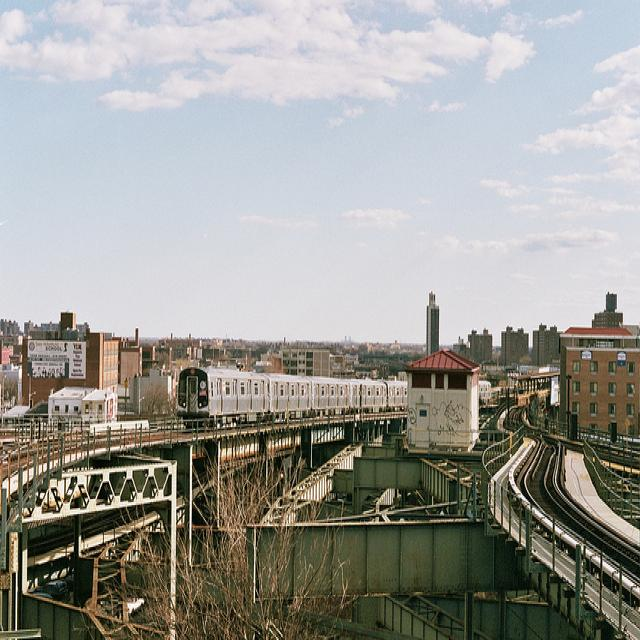Vehicle: (42, 579, 70, 602), (127, 596, 144, 617)
